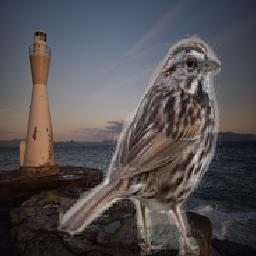Sparrow: (57, 34, 221, 256)
